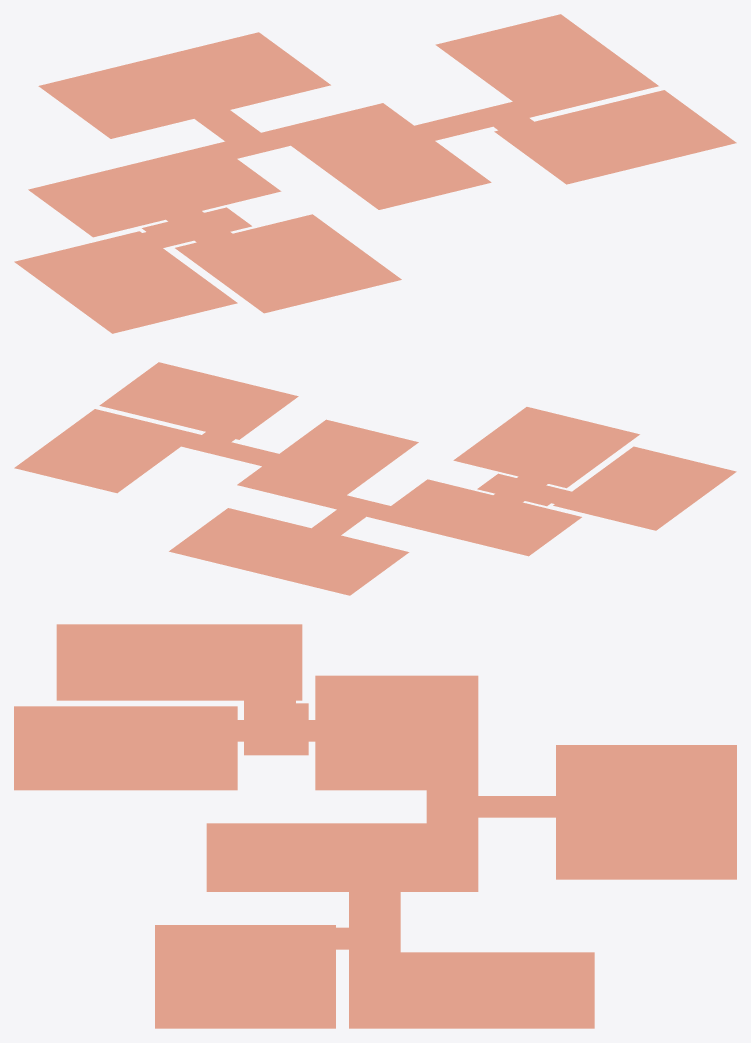
File: B New Version.fbx
3 renders of one model, top to bottom at view 1: azimuth 30°, elevation 25°; view 2: azimuth 150°, elevation 25°; view 3: azimuth 270°, elevation 25°, orthographic. The views are drawn at different scales.
Visible parts, largest first — view 1: Floor1; view 2: Floor1; view 3: Floor1.
Part boxes in pixels (x1,y1,x2,y2): Floor1: (14,14,736,333); Floor1: (14,362,736,595); Floor1: (14,624,736,1028).
Bounding box in the file's own units: 14.8 × 0 × 11.18.
